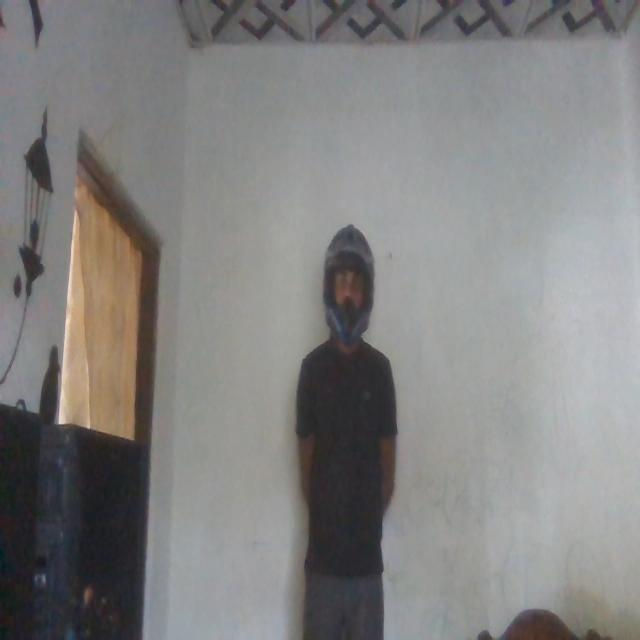Helmet_Wearer: (314, 218, 376, 372)
Person: (288, 244, 394, 640)
